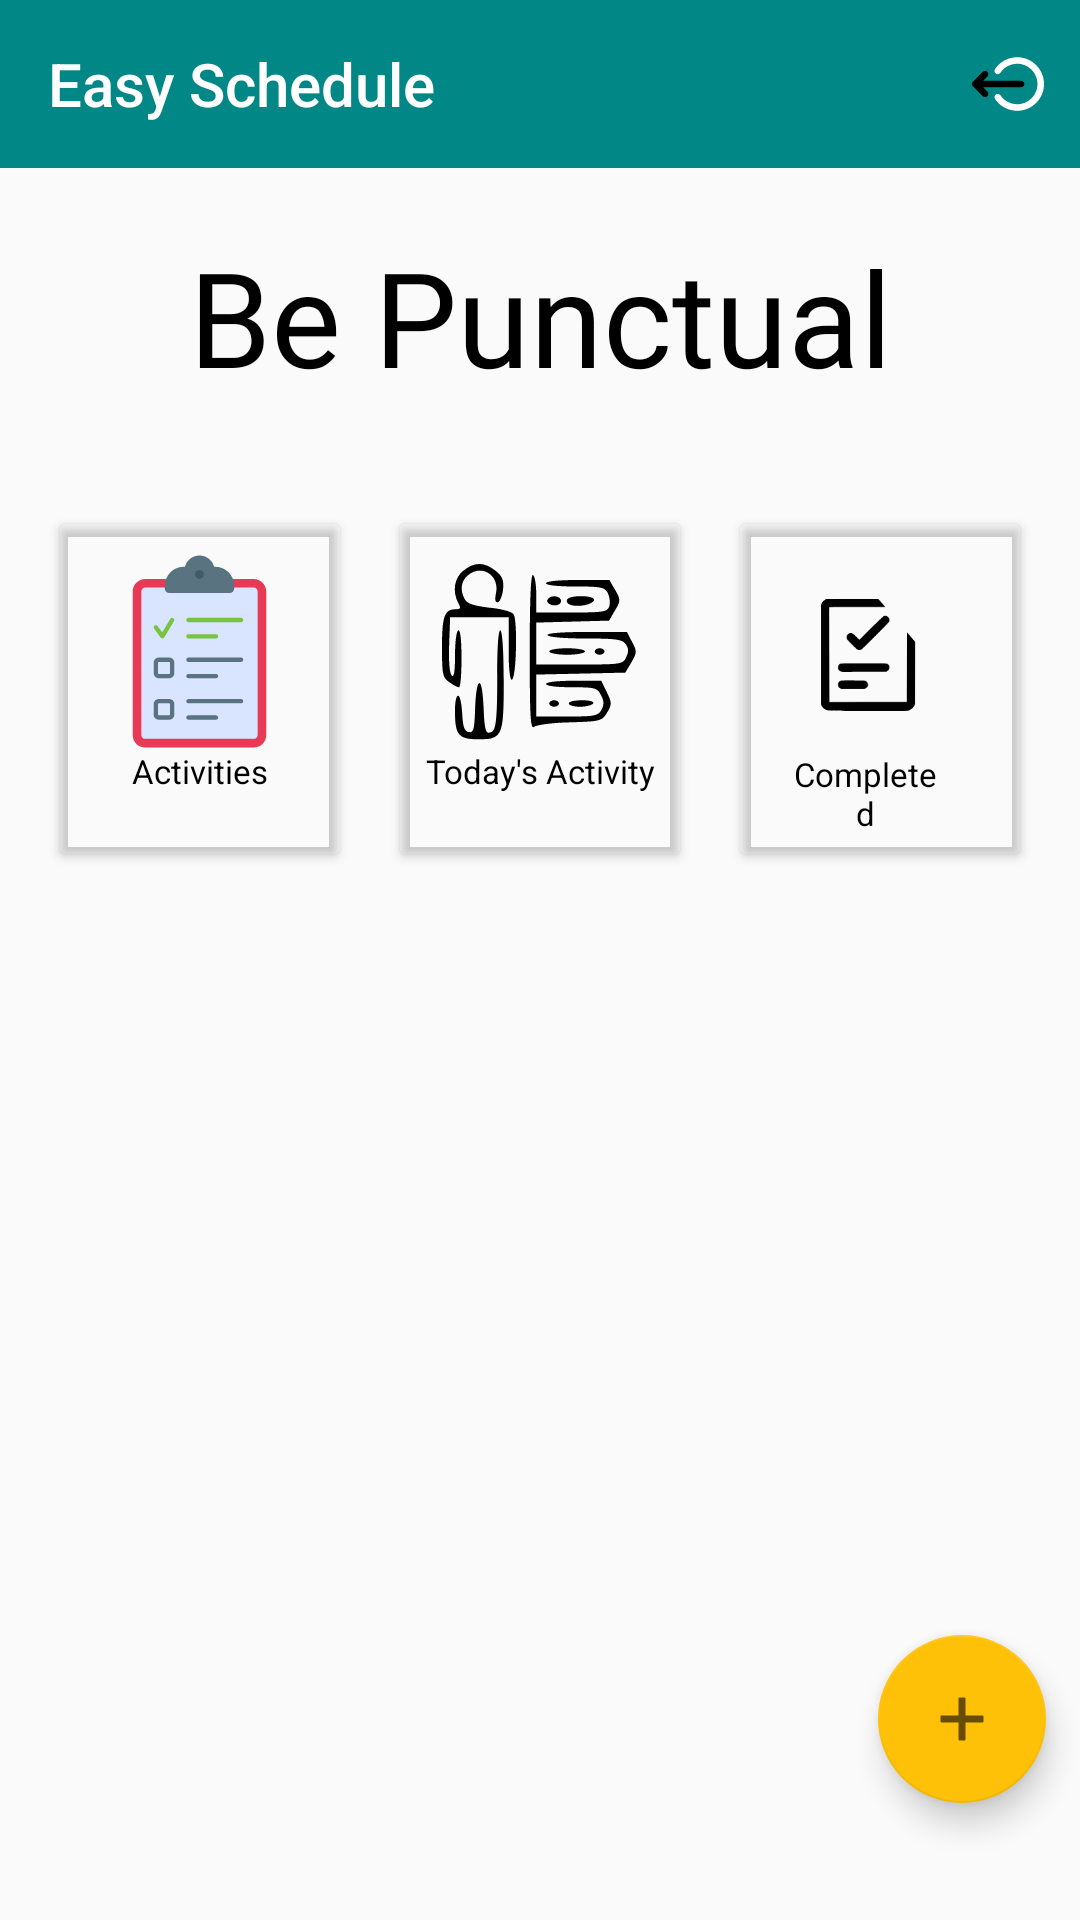

Icons on this 1080x1920 Android screen, each with its box as {"x1": x1, "y1": y1, "x2": x2, "y2": y2}:
add: {"x1": 878, "y1": 1635, "x2": 1046, "y2": 1803}
list: {"x1": 132, "y1": 555, "x2": 267, "y2": 748}
personinfo: {"x1": 442, "y1": 564, "x2": 636, "y2": 740}
